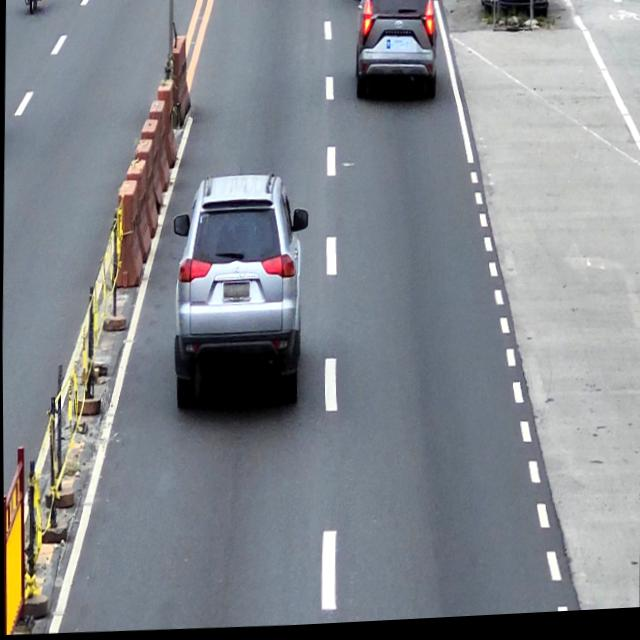Car: (169, 173, 309, 413), (349, 0, 443, 109)
License-Plate: (222, 284, 250, 302), (385, 42, 409, 55)
